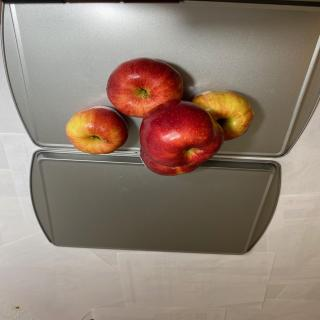Apple: (139, 99, 224, 176), (106, 57, 184, 118), (191, 90, 254, 141), (65, 106, 128, 154)
